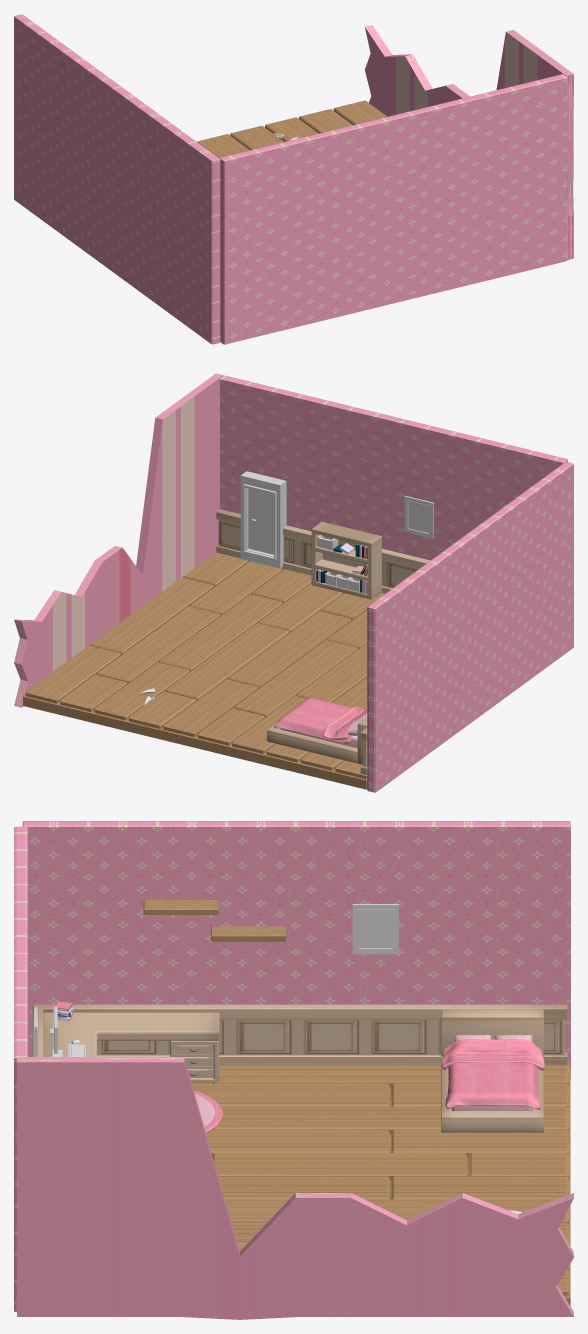
File: RoomsBigger_07.fbx
3 views of the same model, one above another, from view 1: azimuth 30°, elevation 25°; view 2: azimuth 150°, elevation 25°; view 3: azimuth 270°, elevation 25° (orthographic). The views are drawn at different scales.
Visible parts, largest first — view 1: ChamferBox1329, ChamferBox1330, floor.011, Floor004; view 2: Floor004, ChamferBox1330, ChamferBox1329, floor.011, Rectangle020, ChamferBox1328, Box401, ChamferBox1517, ChamferBox1336, ChamferBox1332, ChamferBox1518, Rectangle021 (+1 smaller); view 3: ChamferBox1330, floor.011, Floor004, ChamferBox1514, ChamferBox1515, Box326, ChamferBox1329, ChamferBox1336, ChamferBox1331, ChamferBox1332, ChamferBox1516, Rectangle019 (+5 smaller).
Part boxes in pixels (x1=…): ChamferBox1329: x1=219, y1=74, x2=567, y2=344; ChamferBox1330: x1=14, y1=14, x2=220, y2=344; floor.011: x1=365, y1=25, x2=573, y2=259; Floor004: x1=197, y1=100, x2=387, y2=158; Floor004: x1=25, y1=552, x2=384, y2=779; ChamferBox1330: x1=367, y1=462, x2=573, y2=792; ChamferBox1329: x1=220, y1=375, x2=567, y2=560; floor.011: x1=14, y1=373, x2=223, y2=707; Rectangle020: x1=240, y1=471, x2=286, y2=568; ChamferBox1328: x1=23, y1=694, x2=367, y2=789; Box401: x1=311, y1=521, x2=381, y2=599; ChamferBox1517: x1=218, y1=520, x2=418, y2=588; ChamferBox1336: x1=274, y1=698, x2=352, y2=743; ChamferBox1332: x1=267, y1=724, x2=357, y2=763; ChamferBox1518: x1=216, y1=509, x2=430, y2=568; Rectangle021: x1=404, y1=495, x2=433, y2=538; ChamferBox1330: x1=22, y1=821, x2=570, y2=1078; floor.011: x1=17, y1=1057, x2=573, y2=1319; Floor004: x1=191, y1=1061, x2=568, y2=1296; ChamferBox1514: x1=97, y1=1019, x2=564, y2=1055; ChamferBox1515: x1=32, y1=1004, x2=567, y2=1019; Box326: x1=43, y1=1012, x2=219, y2=1056; ChamferBox1329: x1=14, y1=826, x2=27, y2=1311; ChamferBox1336: x1=445, y1=1063, x2=540, y2=1109; ChamferBox1331: x1=441, y1=1009, x2=543, y2=1056; ChamferBox1332: x1=441, y1=1056, x2=543, y2=1132; ChamferBox1516: x1=97, y1=1052, x2=567, y2=1065; Rectangle019: x1=352, y1=904, x2=398, y2=954.
Bounding box in the file's own units: 334 × 165 × 326.
58 materials, 55 textured.
